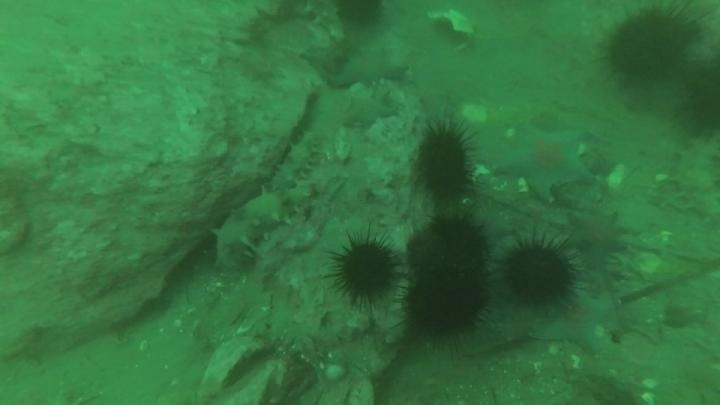echinus: (603, 5, 702, 87), (403, 269, 489, 341), (410, 214, 491, 287), (327, 231, 402, 307), (501, 237, 578, 308), (413, 122, 478, 204), (673, 59, 720, 140), (333, 1, 388, 32)
holothurian: (209, 182, 315, 272), (671, 133, 720, 224), (268, 129, 326, 193)
starfish: (493, 121, 596, 202), (532, 287, 617, 355), (564, 207, 629, 267), (329, 45, 410, 91), (340, 90, 396, 131)
